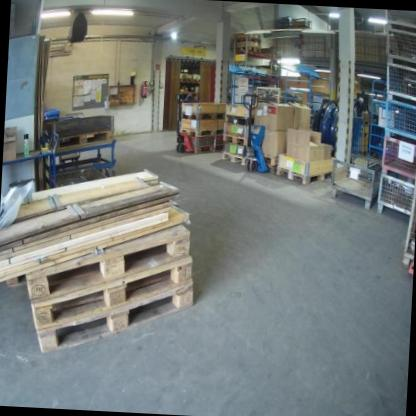pallet: (22, 215, 191, 310), (29, 246, 194, 340), (35, 274, 197, 364), (51, 122, 115, 157), (275, 164, 333, 188), (179, 126, 224, 140), (179, 109, 226, 122), (223, 112, 254, 128), (221, 130, 248, 148), (220, 150, 248, 166), (192, 143, 223, 156), (233, 36, 260, 45), (234, 45, 259, 53)
pallet_truck: (235, 89, 276, 176), (169, 89, 206, 157)
stillage: (331, 153, 378, 208), (397, 155, 416, 272), (374, 172, 416, 223), (374, 135, 416, 180), (379, 98, 416, 140), (380, 26, 416, 67), (381, 61, 416, 98), (384, 10, 416, 37), (252, 84, 286, 105)
